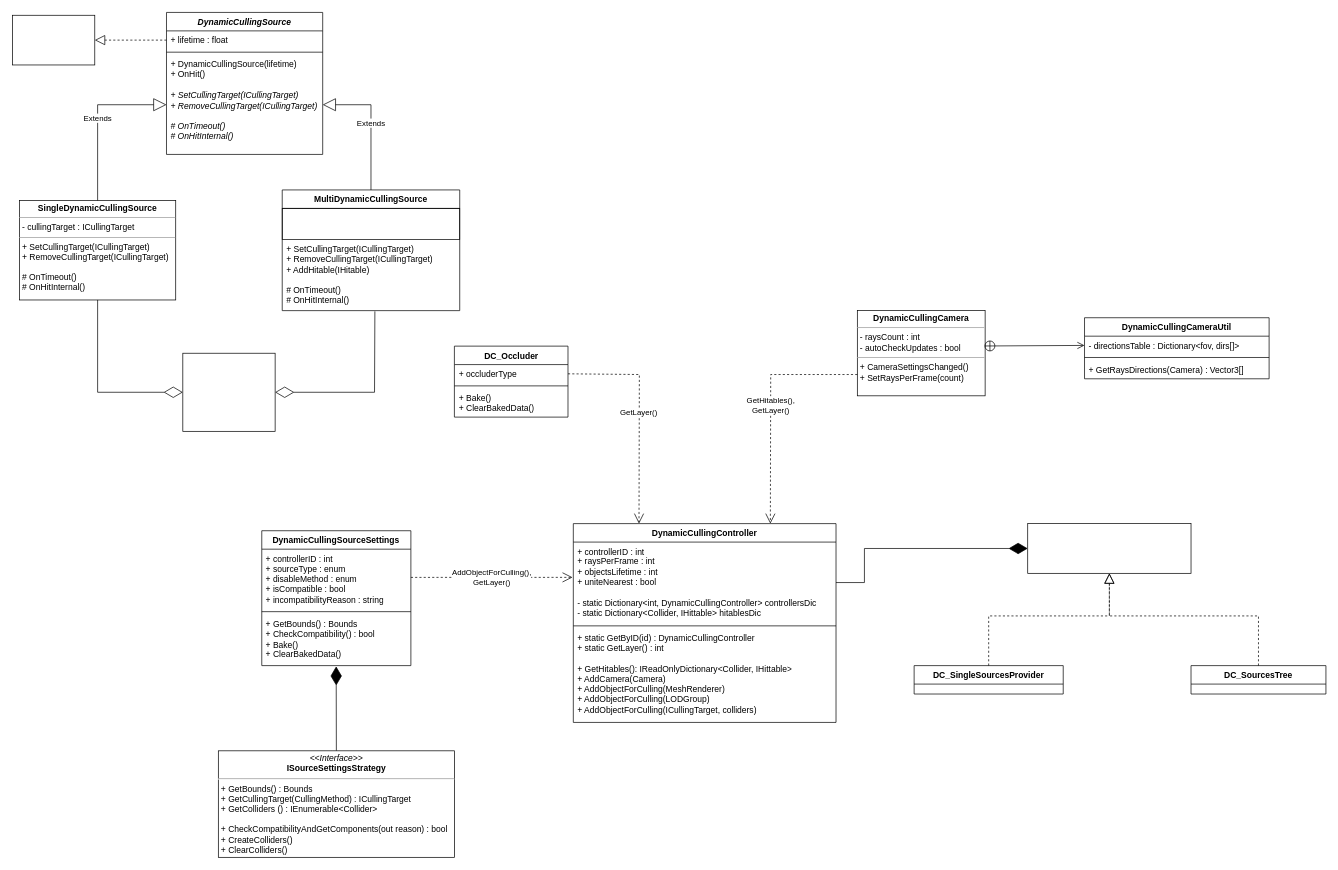
The diagram is 1338 pixels wide and 870 high, and some of its shapes have lost their labels. The centre of each missing label's shape, as x and y in pixels:
- cullingTargets : List<ICullingTarget> - hitable : List<IHitable>: the point at 371,224
<<Interface>> ICullingTarget + Bounds : Bounds + MakeVisible() + MakeInvisible(): the point at 228,392
<<Interface>> IDC_SourcesProvider + GetSource(ICullingTarget) : DC_Source: the point at 1109,548
<<Interface>> IHitable + OnHit(): the point at 53,40
